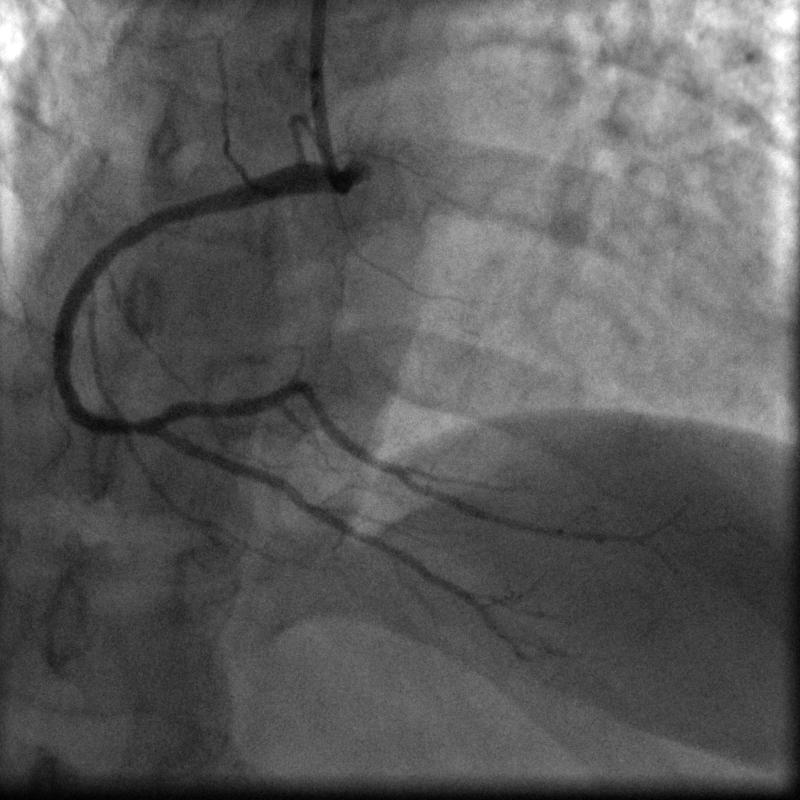Stenosis: (117, 414, 148, 439)
